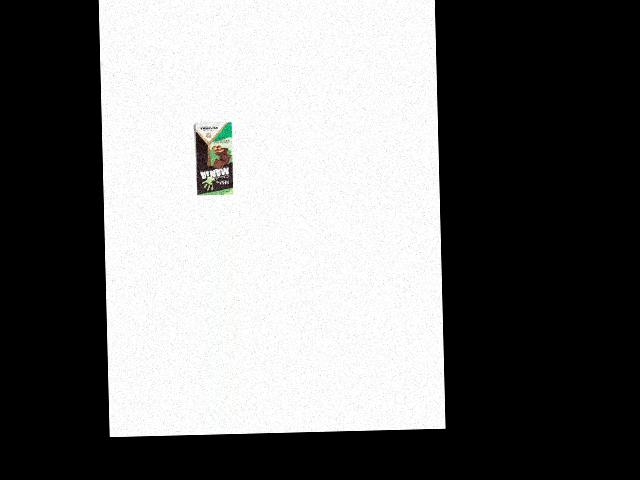chocolate: (192, 120, 235, 196)
